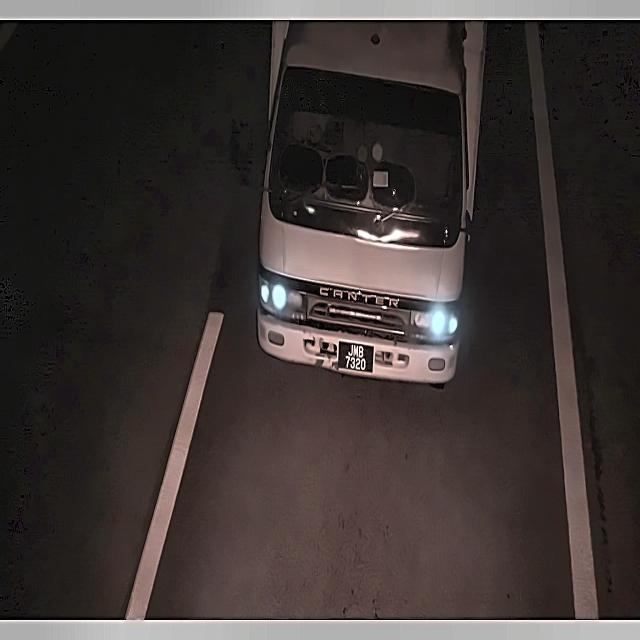car: (330, 334, 379, 378)
